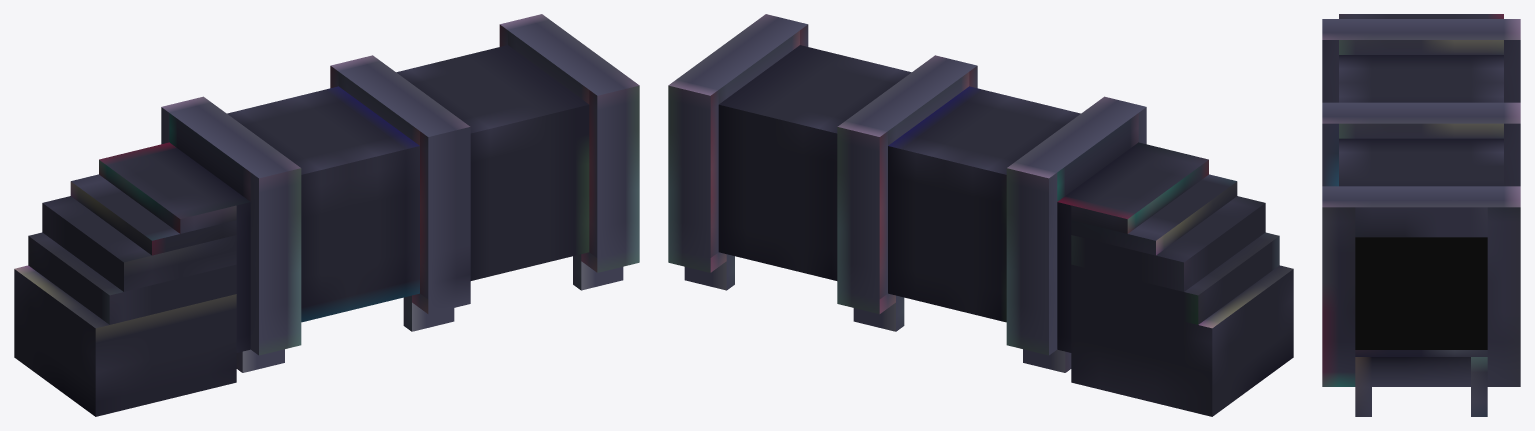
Rendered from Vent_Module_J_00.fbx.
3 views of the same model, side by side, from view 1: azimuth 30°, elevation 25°; view 2: azimuth 150°, elevation 25°; view 3: azimuth 270°, elevation 25° (orthographic).
Visible parts, largest first — view 1: Vent_Module_J_00; view 2: Vent_Module_J_00; view 3: Vent_Module_J_00.
Boxes of the visible parts, bbox=[...] form: Vent_Module_J_00: bbox=[14, 14, 639, 416]; Vent_Module_J_00: bbox=[668, 14, 1293, 416]; Vent_Module_J_00: bbox=[1322, 14, 1520, 416].
Bounding box in the file's own units: 190 × 70 × 60.
